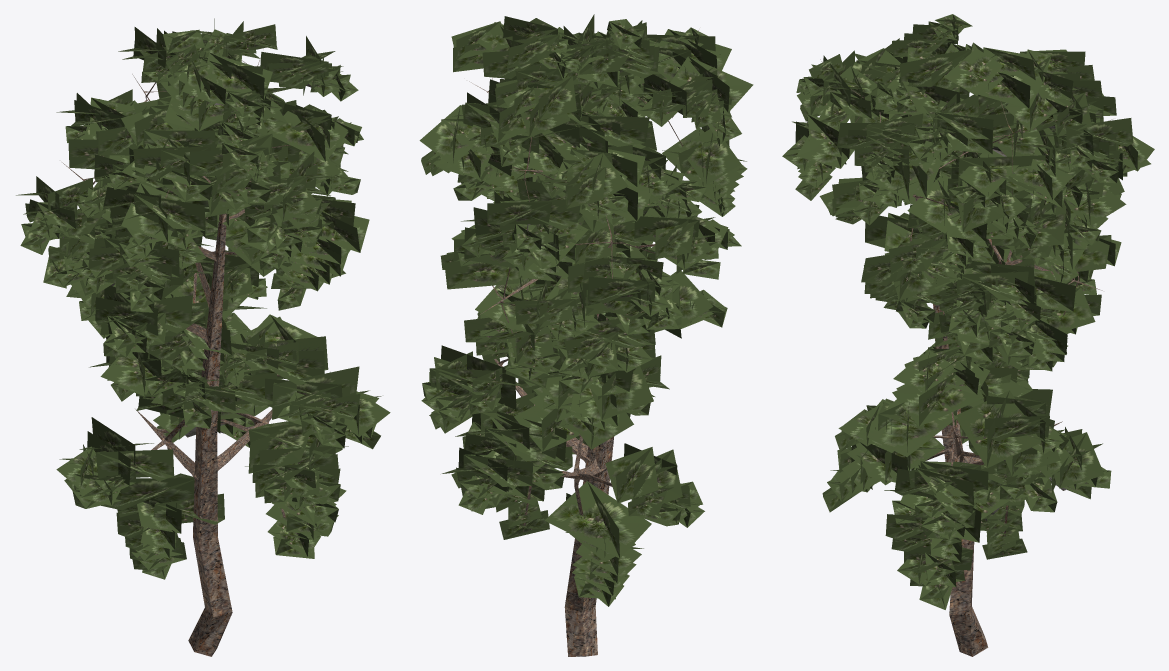
3 views of the same model, side by side, from view 1: azimuth 30°, elevation 25°; view 2: azimuth 150°, elevation 25°; view 3: azimuth 270°, elevation 25° (orthographic). The views are drawn at different scales.
Visible parts, largest first — view 1: A01957; view 2: A01957; view 3: A01957.
Part boxes in pixels (x1,y1,x2,y2): A01957: (16, 18, 390, 656); A01957: (419, 14, 753, 656); A01957: (782, 14, 1154, 656).
Bounding box in the file's own units: 16.97 × 31.12 × 16.87.
